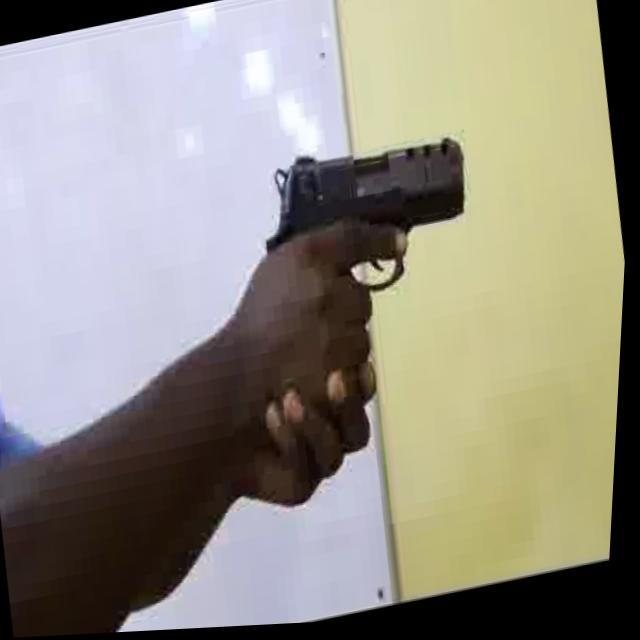weapon: (252, 125, 487, 322)
